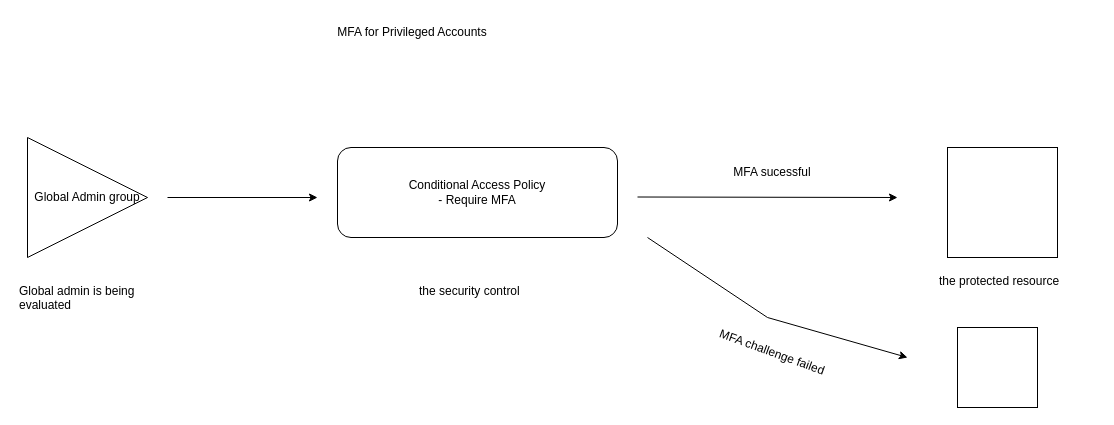
Some shapes in this 1114 by 425 pixel diagram are drawn without their labels. Each missing label, with the centre of its shape:
Cloud Apps: the point at 1002,202
Denied: the point at 997,367
